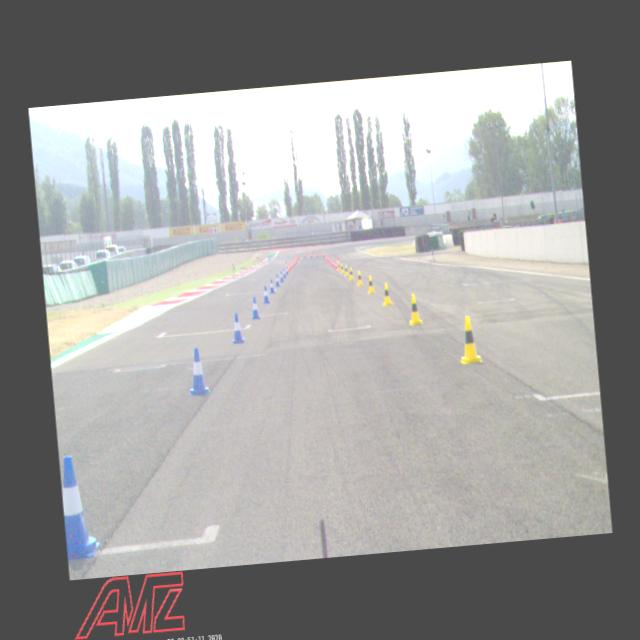blue_cone: (58, 452, 102, 558), (184, 346, 211, 396), (230, 310, 246, 344), (248, 296, 260, 318), (260, 284, 270, 304), (268, 278, 275, 292), (274, 273, 280, 287), (278, 270, 284, 282), (282, 267, 286, 278)
large_orange_cone: (334, 256, 340, 270), (284, 260, 288, 274)
yellow_cone: (456, 314, 483, 365), (406, 292, 423, 326), (380, 281, 392, 307), (366, 274, 376, 294), (356, 269, 364, 286), (343, 264, 349, 277), (348, 266, 353, 280), (339, 262, 344, 274), (336, 261, 341, 271)
